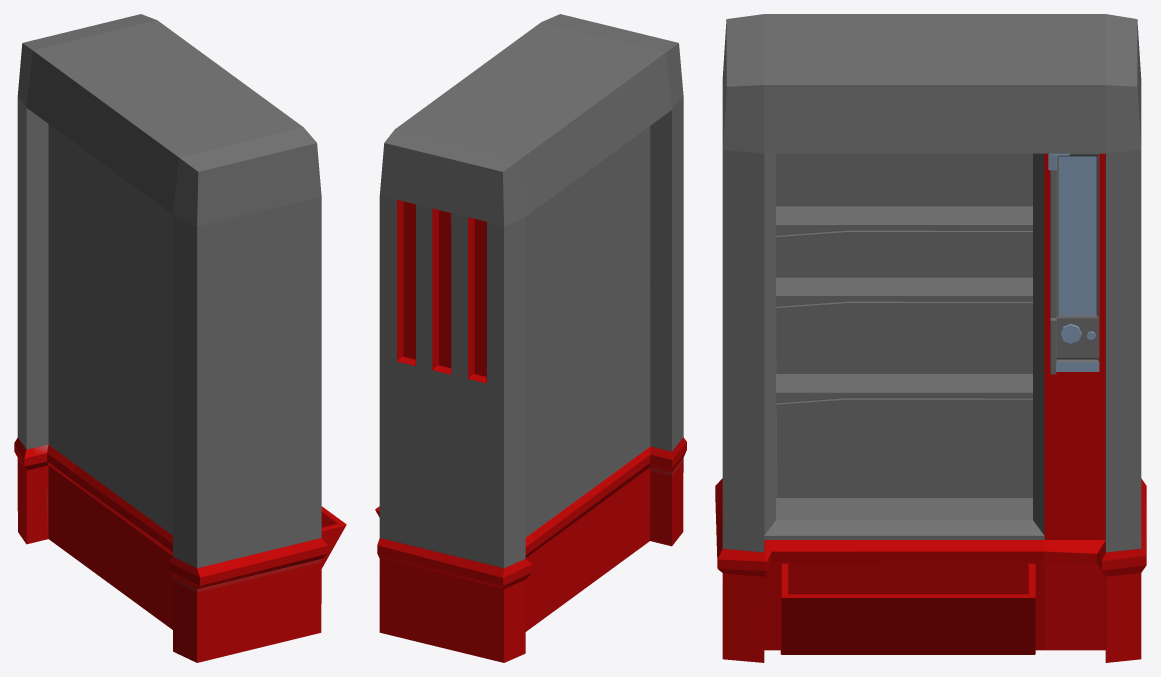
Rendered from SM_Machine_SM_Machine.fbx.
3 views of the same model, side by side, from view 1: azimuth 30°, elevation 25°; view 2: azimuth 150°, elevation 25°; view 3: azimuth 270°, elevation 25° (orthographic). The views are drawn at different scales.
Visible parts, largest first — view 1: SM_Machine_SM_Machine; view 2: SM_Machine_SM_Machine; view 3: SM_Machine_SM_Machine.
Boxes of the visible parts, bbox=[...] form: SM_Machine_SM_Machine: bbox=[14, 14, 346, 662]; SM_Machine_SM_Machine: bbox=[375, 14, 686, 662]; SM_Machine_SM_Machine: bbox=[715, 14, 1146, 662].
Size of the model in its own units: 107 by 185 by 272.
Materials: 1 (1 with a texture image).
